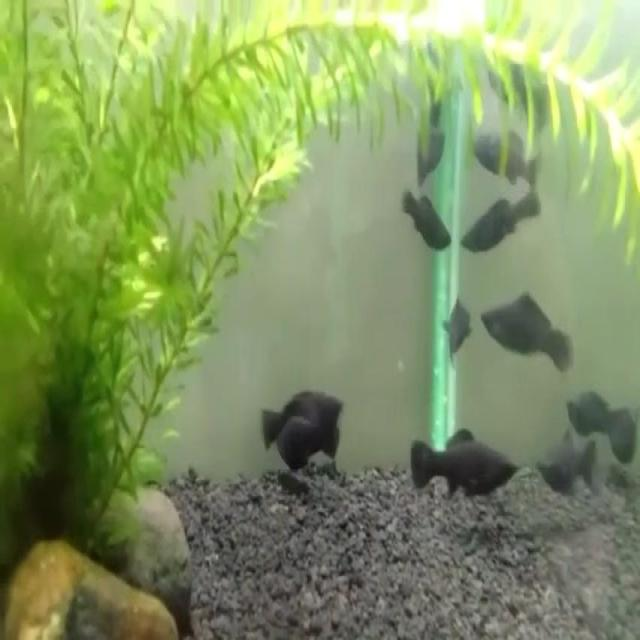PlatyFish: (474, 268, 575, 381), (254, 365, 352, 479), (405, 424, 523, 509), (457, 179, 547, 260), (532, 424, 601, 500), (396, 179, 456, 264)
